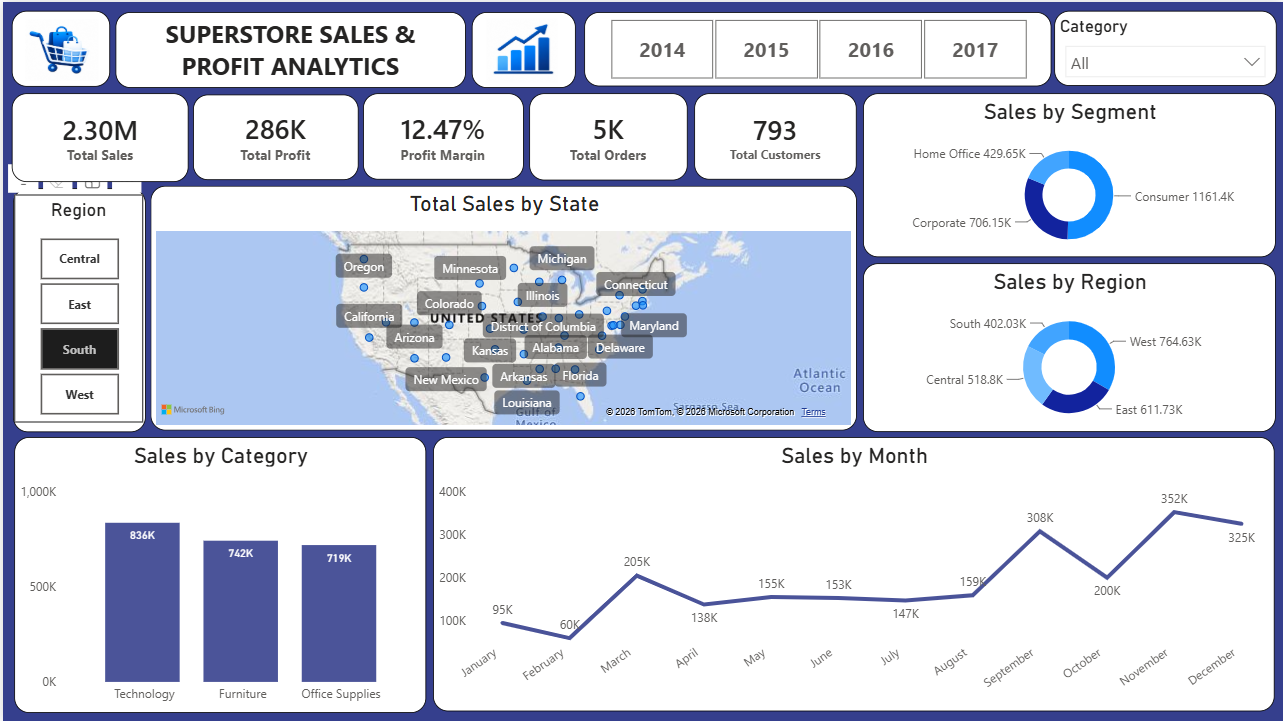

The dashboard page shown, as its layout file describes it:
{"tool":"powerbi","page":{"name":"Sales Overview","canvas":[1280,720],"ordinal":0},"visuals":[{"type":"lineChart","title":"Sales by Month","fields":{"Category":["Date_Table.Month"],"Y":["_Measures.Total Sales"]},"box":[429.7,435.6,841.7,274.7],"z":0},{"type":"cardVisual","fields":{"Data":["_Measures.Total Orders"]},"box":[526.6,91.4,158.2,87.1],"z":1000,"group":"g1"},{"type":"clusteredColumnChart","title":"Sales by Category","fields":{"Category":["dim_Product.Category"],"Y":["_Measures.Total Sales"]},"box":[11.8,435.5,411.8,276.3],"z":1000},{"type":"donutChart","title":"Sales by Segment","fields":{"Category":["dim_Customer.Segment"],"Y":["_Measures.Total Sales"]},"box":[860,91.4,412.9,164.3],"z":2000},{"type":"cardVisual","fields":{"Data":["_Measures.Profit Margin %"]},"box":[360.2,91.9,160.9,86.2],"z":2000,"group":"g1"},{"type":"slicer","fields":{"Values":["Date_Table.Year"]},"box":[580.8,9.8,467,74.6],"z":3000},{"type":"cardVisual","fields":{"Data":["_Measures.Total Profit"]},"box":[190,92.8,165.7,85.7],"z":3000,"group":"g1"},{"type":"donutChart","title":"Sales by Region","fields":{"Category":["dim_Customer.Region"],"Y":["_Measures.Total Sales"]},"box":[860,261.4,412.9,168.6],"z":5000},{"type":"map","fields":{"Category":["dim_Customer.State"],"Y":["_Measures.Total Sales"]},"box":[147.4,184.2,706.6,244.7],"z":6000},{"type":"group","id":"g1","title":"Group 1","box":[190,91.4,662.9,87.1],"z":7000},{"type":"textbox","box":[112.9,10,350,75.7],"z":8000},{"type":"textbox","box":[8.6,8.6,98.6,75.7],"z":9000},{"type":"image","box":[22.9,17.1,72.9,61.4],"z":10000},{"type":"textbox","box":[468.6,10,104.3,75.7],"z":11000},{"type":"cardVisual","fields":{"Data":["_Measures.CUSTOMERS"]},"box":[690.7,91.9,162.2,86.2],"z":11000,"group":"g1"},{"type":"image","box":[484.3,15.7,71.4,64.3],"z":12000},{"type":"textbox","box":[10,185.7,132.9,244.3],"z":13000},{"type":"slicer","title":"Region","fields":{"Values":["dim_Customer.Region"]},"box":[11.4,192.9,128.6,227.1],"z":14000},{"type":"slicer","title":"Category","fields":{"Values":["dim_Product.Category"]},"box":[1051.3,9.2,222.4,75],"z":15000},{"type":"cardVisual","fields":{"Data":["_Measures.Total Sales"]},"box":[8.6,91.4,177.1,88.6],"z":15500}]}

Visuals, with their boxes in screenshot pixels (x1, y1, x2, y2), scaled from the page's 1280x720 canvas onto the 1283x721 screenshot:
"Sales by Month" lineChart: <region>431, 436, 1274, 711</region>
cardVisual - _Measures.Total Orders: <region>528, 92, 686, 179</region>
"Sales by Category" clusteredColumnChart: <region>12, 436, 425, 713</region>
"Sales by Segment" donutChart: <region>862, 92, 1276, 256</region>
cardVisual - _Measures.Profit Margin %: <region>361, 92, 522, 178</region>
slicer - Date_Table.Year: <region>582, 10, 1050, 85</region>
cardVisual - _Measures.Total Profit: <region>190, 93, 357, 179</region>
"Sales by Region" donutChart: <region>862, 262, 1276, 431</region>
map - dim_Customer.State x _Measures.Total Sales: <region>148, 184, 856, 429</region>
"Group 1" group: <region>190, 92, 855, 179</region>
textbox: <region>113, 10, 464, 86</region>
textbox: <region>9, 9, 107, 84</region>
image: <region>23, 17, 96, 79</region>
textbox: <region>470, 10, 574, 86</region>
cardVisual - _Measures.CUSTOMERS: <region>692, 92, 855, 178</region>
image: <region>485, 16, 557, 80</region>
textbox: <region>10, 186, 143, 431</region>
"Region" slicer: <region>11, 193, 140, 421</region>
"Category" slicer: <region>1054, 9, 1277, 84</region>
cardVisual - _Measures.Total Sales: <region>9, 92, 186, 180</region>
